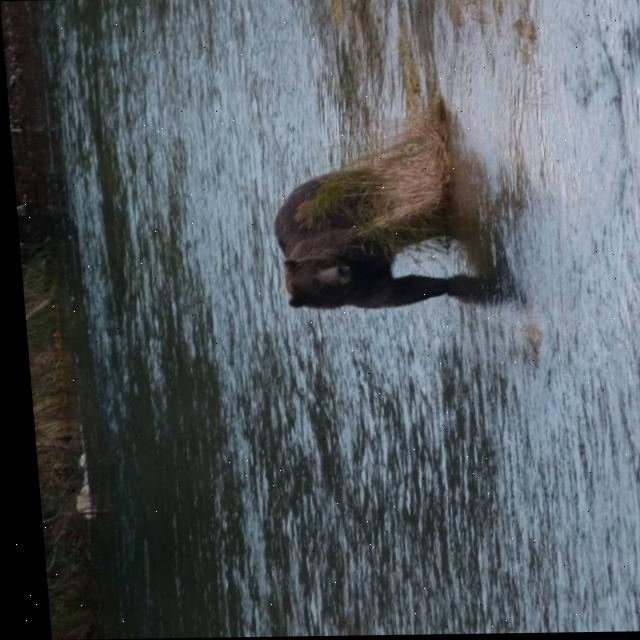bear face: (272, 172, 438, 309)
